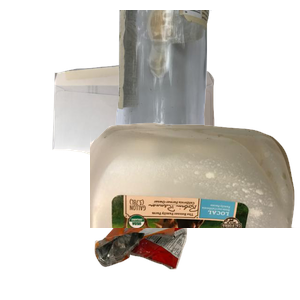glass: (113, 10, 300, 190)
paper: (50, 61, 257, 211)
plastic: (90, 120, 300, 300)
trash: (92, 174, 272, 300)
